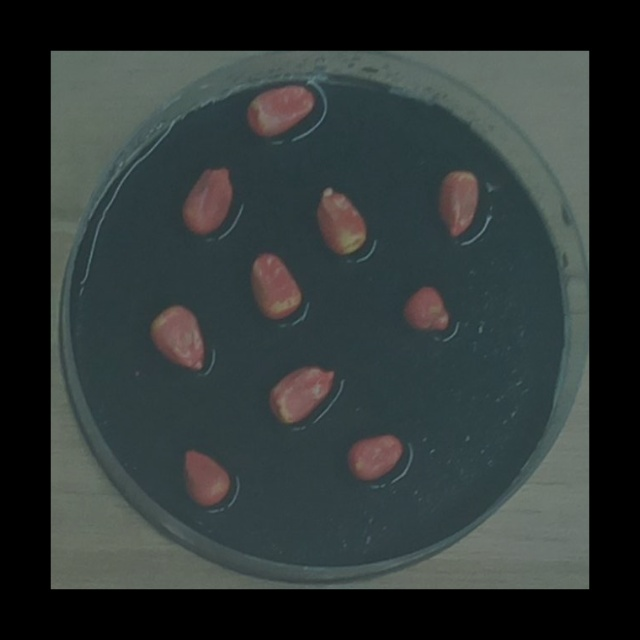Zea mays: (261, 357, 341, 430), (143, 297, 212, 376), (240, 76, 320, 142), (311, 178, 373, 260), (176, 160, 239, 240), (245, 246, 307, 325), (431, 164, 484, 243), (341, 428, 409, 486), (179, 443, 235, 512), (397, 279, 454, 336)
